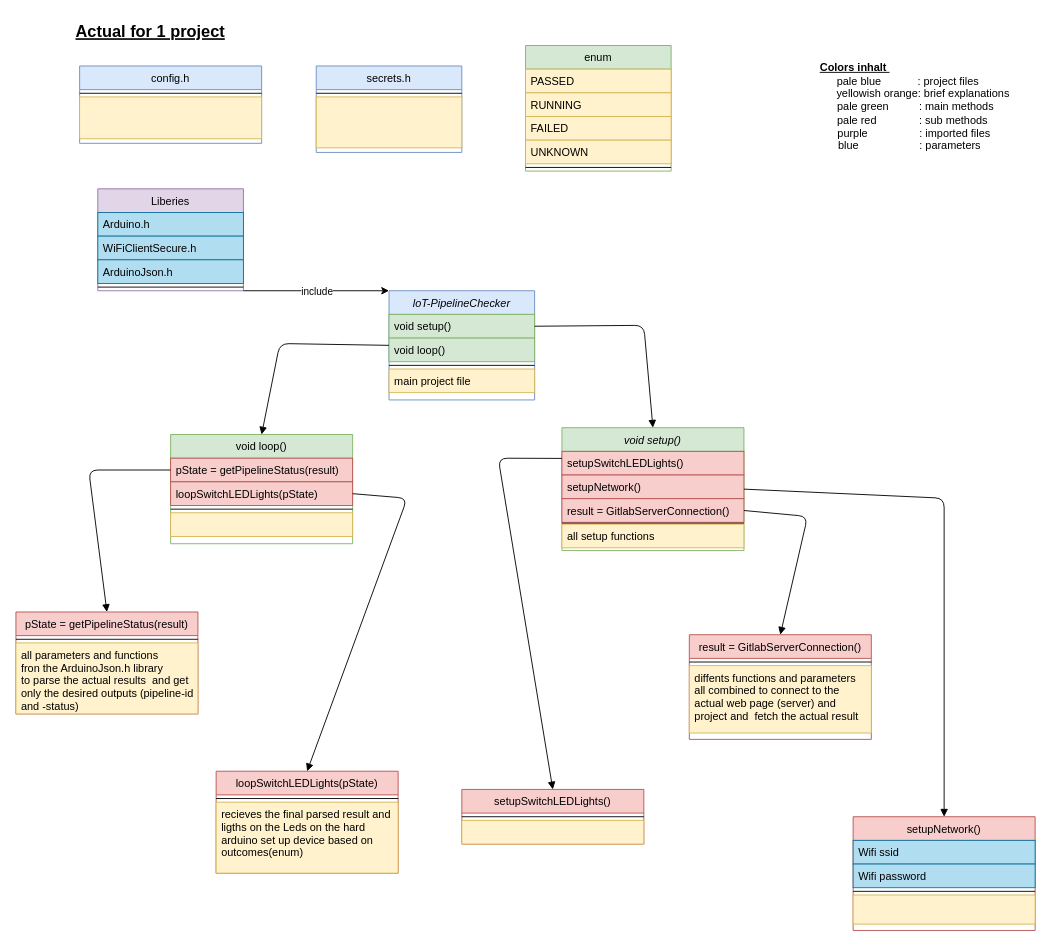
The diagram is 1051 pixels wide and 946 high, and some of its shapes have lost their labels. Each missing label, with the centre of its shape:
"all loop functions" goes at (x=261, y=524).
"contains all private info implemented all through the programm" goes at (x=388, y=122).
"contains the variables implemented all through the programm" goes at (x=170, y=117).
"parameting internet connection to a wifi network." goes at (x=943, y=909).
"set LEDs as output" goes at (x=552, y=831).
